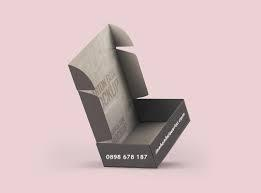box: (68, 23, 191, 167)
